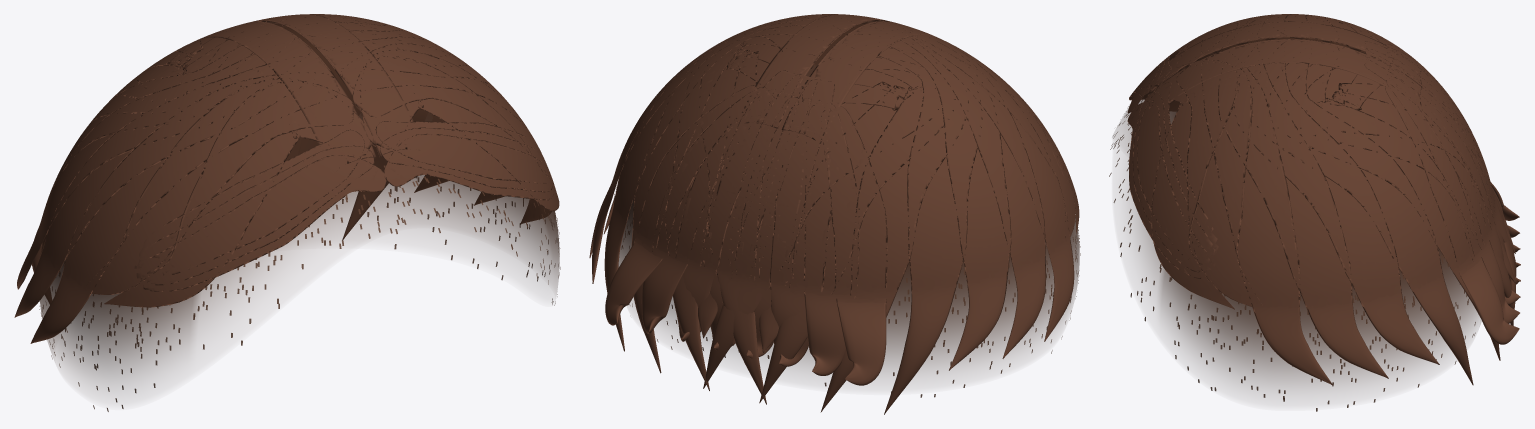
The model's file is Masculine-middle-part-closed-hair.glb.
3 views of the same model, side by side, from view 1: azimuth 30°, elevation 25°; view 2: azimuth 150°, elevation 25°; view 3: azimuth 270°, elevation 25° (orthographic). The views are drawn at different scales.
Visible parts, largest first — view 1: 226 hair / Hair / chestnut226.001, 226 hair / Hair / neutral coverage235.001, 226 hair / Hair / cut grain235.001; view 2: 226 hair / Hair / chestnut226.001, 226 hair / Hair / neutral coverage235.001, 226 hair / Hair / cut grain235.001; view 3: 226 hair / Hair / chestnut226.001, 226 hair / Hair / neutral coverage235.001, 226 hair / Hair / cut grain235.001.
Boxes of the visible parts, x1,y1,x2,y2 form: 226 hair / Hair / chestnut226.001: (14, 14, 559, 343); 226 hair / Hair / neutral coverage235.001: (40, 23, 559, 390); 226 hair / Hair / cut grain235.001: (39, 161, 560, 411); 226 hair / Hair / chestnut226.001: (589, 14, 1079, 414); 226 hair / Hair / neutral coverage235.001: (614, 22, 1079, 379); 226 hair / Hair / cut grain235.001: (613, 185, 1080, 397); 226 hair / Hair / chestnut226.001: (1127, 14, 1520, 385); 226 hair / Hair / neutral coverage235.001: (1114, 37, 1481, 394); 226 hair / Hair / cut grain235.001: (1109, 95, 1475, 411).
Size of the model in its own units: 1.04 by 0.6259 by 0.8243.
